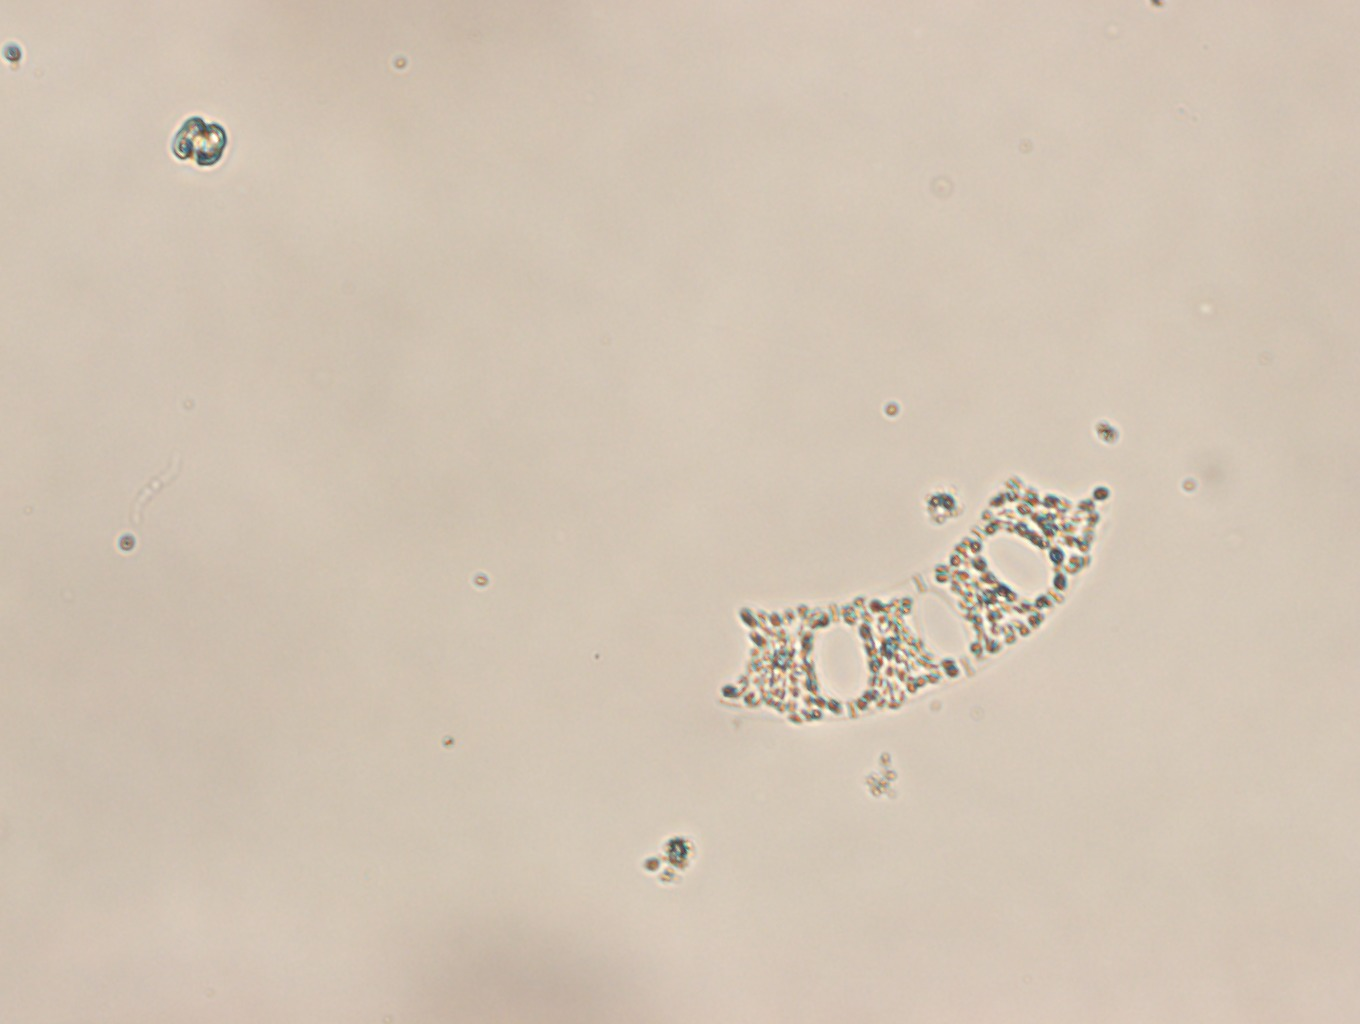eucampia: (716, 472, 1110, 733)
